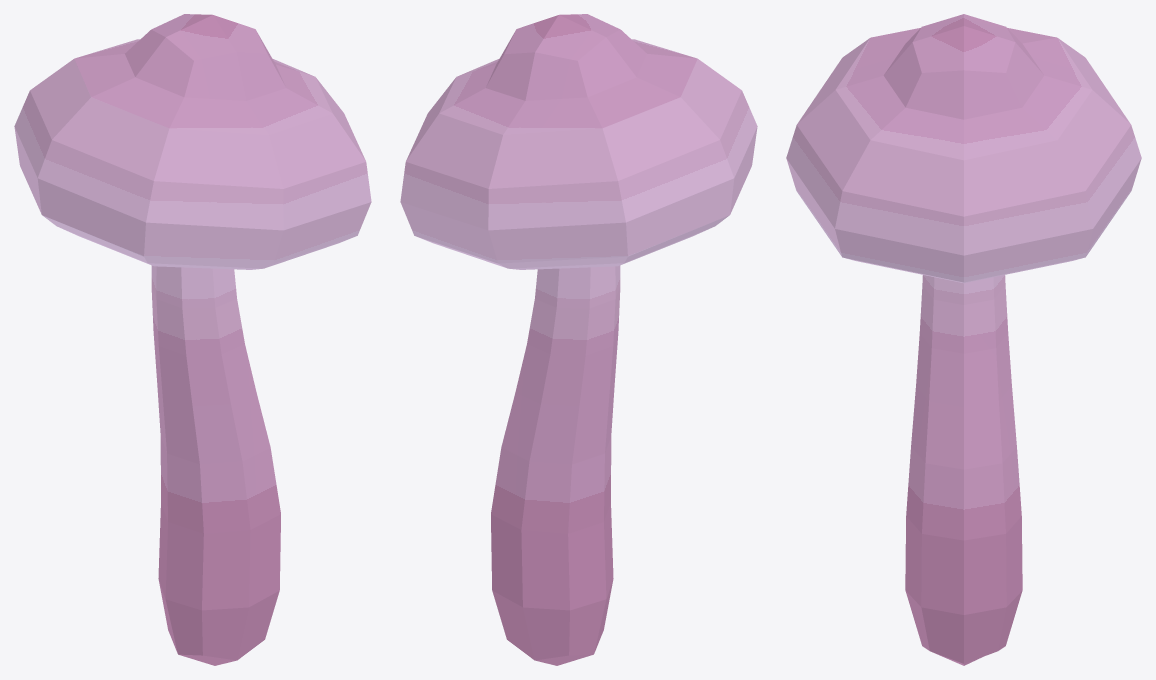
Rendered from RosyBonnet_Medium.glb.
3 renders of one model, left to right at view 1: azimuth 30°, elevation 25°; view 2: azimuth 150°, elevation 25°; view 3: azimuth 270°, elevation 25°, orthographic.
Parts seen in each view (by area): view 1: Cube.001; view 2: Cube.001; view 3: Cube.001.
Part boxes in pixels (x1,y1,x2,y2): Cube.001: (14, 14, 371, 665); Cube.001: (400, 14, 757, 665); Cube.001: (786, 14, 1141, 665).
Size of the model in its own units: 3.97 by 7.96 by 4.01.
Materials: 1 (1 with a texture image).
